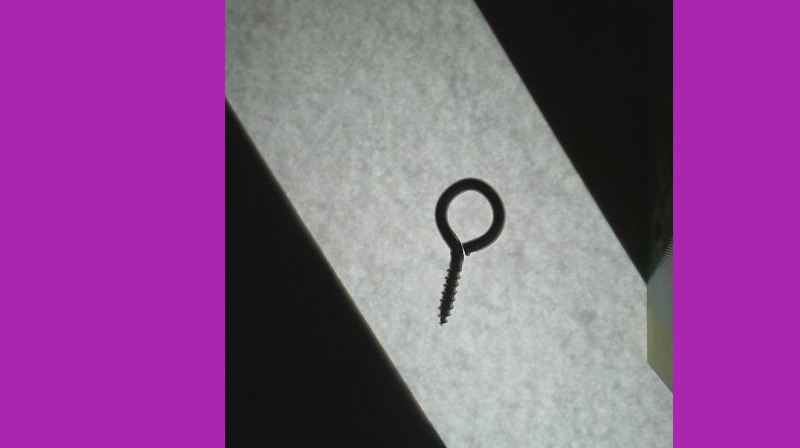O001: (432, 173, 507, 328)
